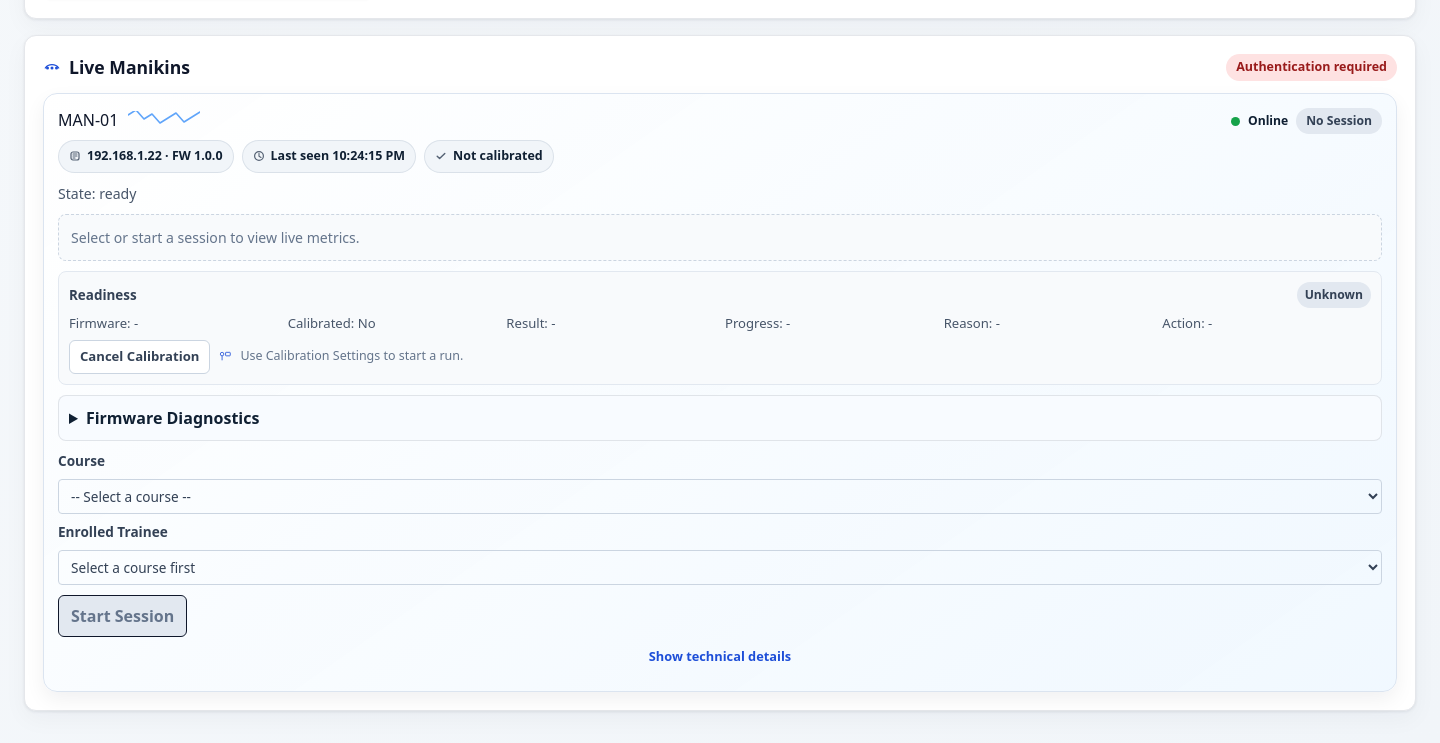
it: InstructorDashboard › starts a session for a manikin
The width and height of the screenshot is (1440, 743).
(page scrolled)
Expected: the heading "MAN-01" is shown, top-left (58, 108), bottom-right (118, 132)
Step 1. Select "CPR-101 - CPR Fundamentals" in the dropdown labelled "Course" → (720, 496), box top-left (58, 479), bottom-right (1382, 514)
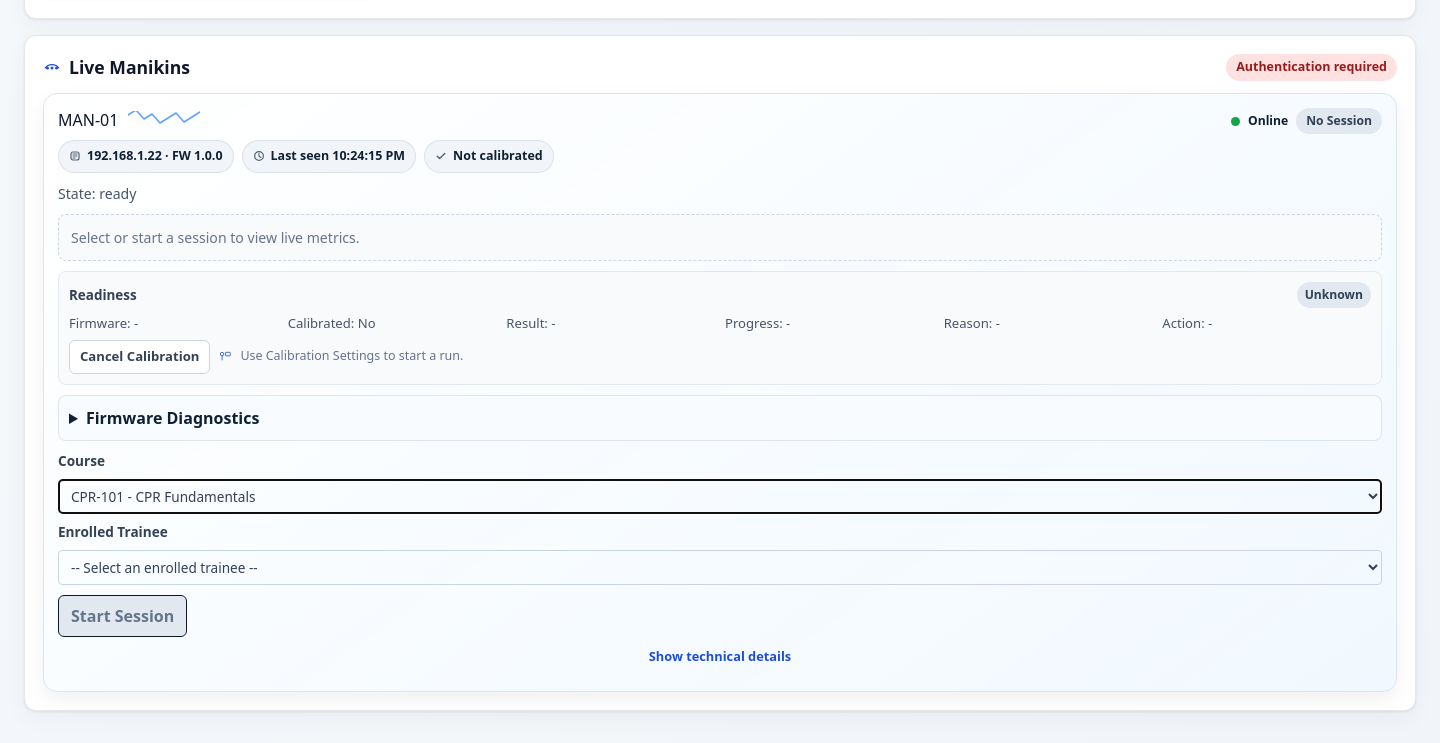
Step 2. Select "Ami Trainee (ami.trainee@example.com)" in the dropdown labelled "Enrolled Trainee" → (720, 568), box top-left (58, 550), bottom-right (1382, 585)
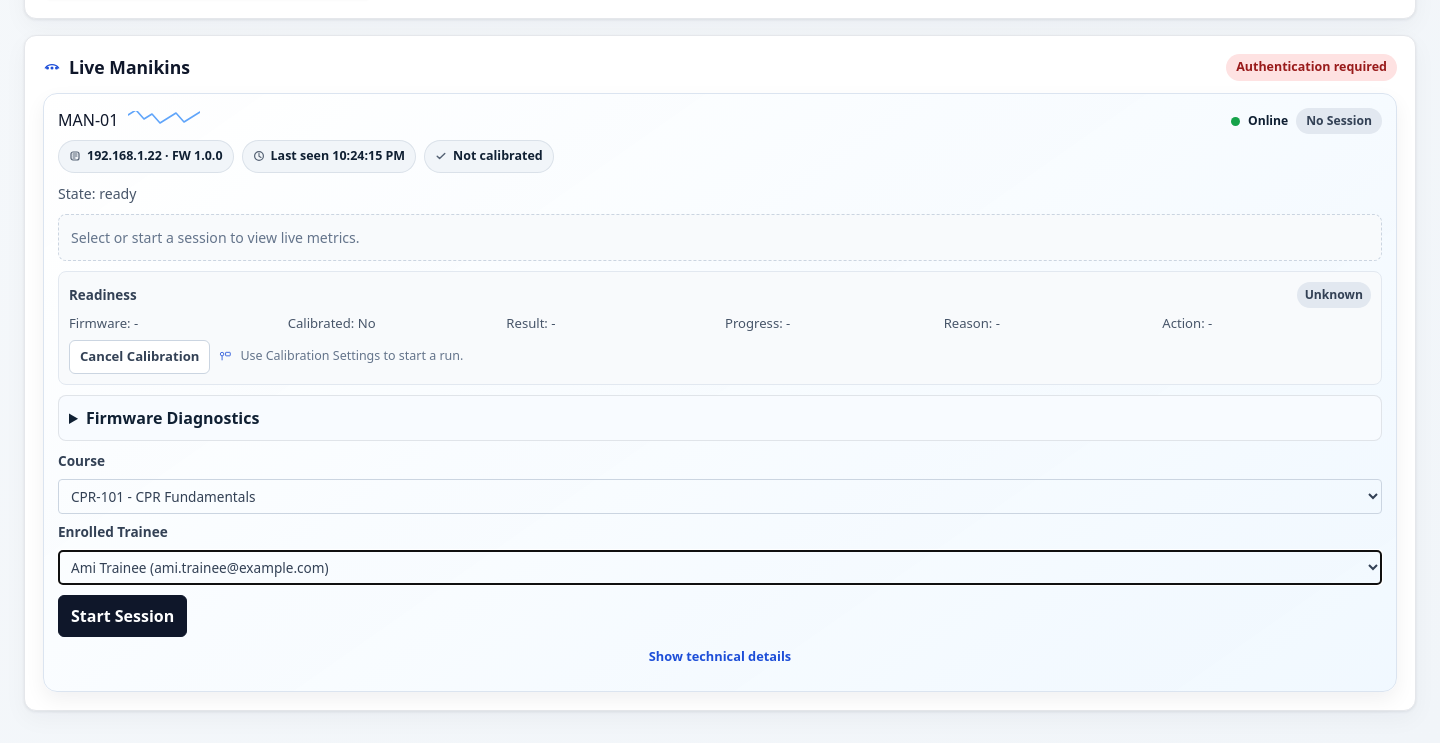
Step 3. Click the button "Start Session" → click(123, 616), box top-left (58, 595), bottom-right (187, 637)
(page scrolled)
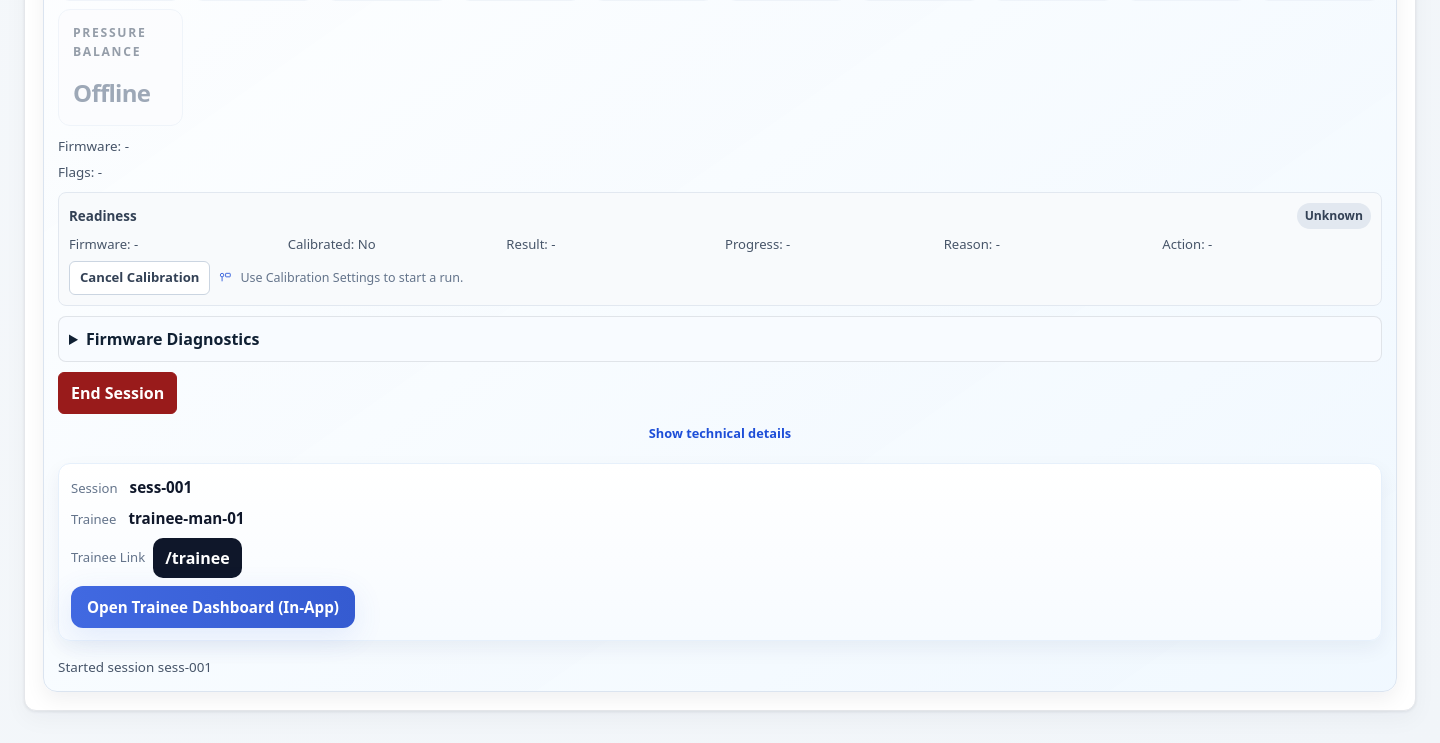
Result: the text "Started session sess-001" is shown at top-left (58, 658), bottom-right (212, 676)
